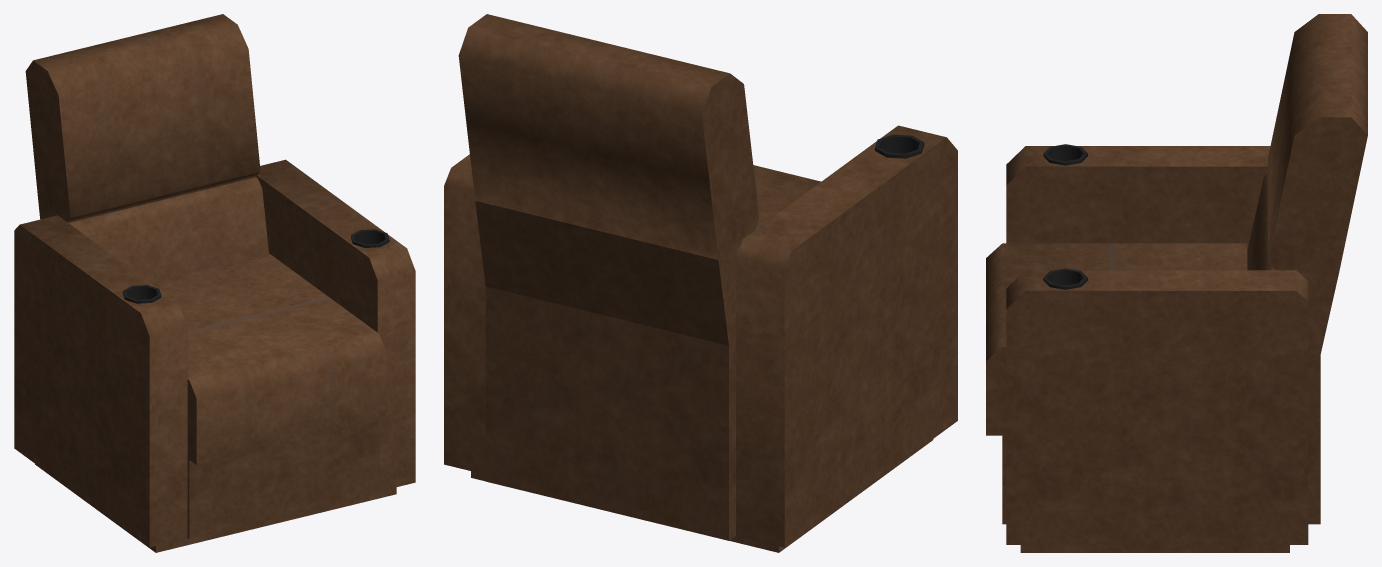
The model's file is LC_3058_Recliner_sofa_LOD2.FBX.
3 views of the same model, side by side, from view 1: azimuth 30°, elevation 25°; view 2: azimuth 150°, elevation 25°; view 3: azimuth 270°, elevation 25° (orthographic). The views are drawn at different scales.
Parts seen in each view (by area): view 1: LC_3058_Recliner_sofa_LOD2; view 2: LC_3058_Recliner_sofa_LOD2; view 3: LC_3058_Recliner_sofa_LOD2.
Part boxes in pixels (left/top/right/bottom): LC_3058_Recliner_sofa_LOD2: left=14, top=14, right=415, bottom=552; LC_3058_Recliner_sofa_LOD2: left=444, top=14, right=957, bottom=552; LC_3058_Recliner_sofa_LOD2: left=986, top=14, right=1367, bottom=552.
Size of the model in its own units: 84 by 114 by 93.56.
1 material, 1 textured.
